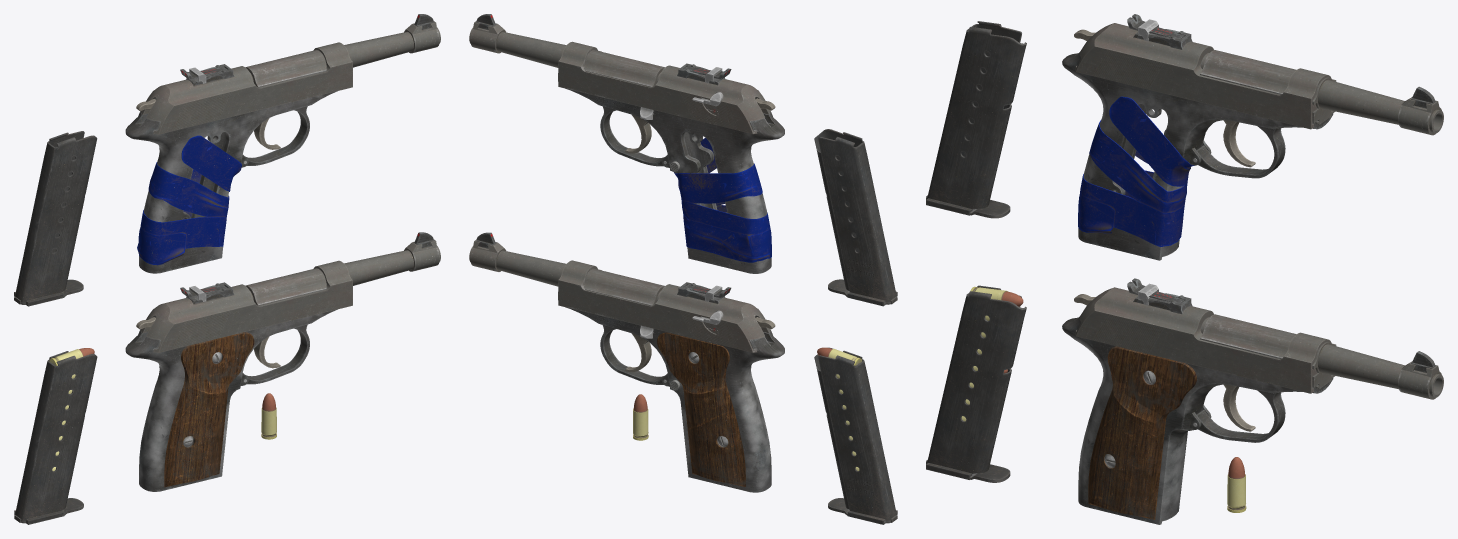
File: service_pistol_2k.gltf
The picture shows the model from 3 angles, left to right: view 1: azimuth 30°, elevation 25°; view 2: azimuth 150°, elevation 25°; view 3: azimuth 330°, elevation 25°; orthographic projection. The views are drawn at different scales.
Visible parts, largest first — view 1: service_pistol_pistol_b, service_pistol_pistol_a, service_pistol_magazine_loaded, service_pistol_magazine_empty, service_pistol_slide_a, service_pistol_slide_b, service_pistol_bullet; view 2: service_pistol_pistol_b, service_pistol_pistol_a, service_pistol_magazine_loaded, service_pistol_magazine_empty, service_pistol_slide_a, service_pistol_slide_b, service_pistol_bullet; view 3: service_pistol_pistol_a, service_pistol_pistol_b, service_pistol_magazine_loaded, service_pistol_magazine_empty, service_pistol_slide_b, service_pistol_slide_a, service_pistol_bullet, service_pistol_trigger_b, service_pistol_trigger_a.
Part boxes in pixels (<box>): service_pistol_pistol_b: <box>125,14,440,273</box>; service_pistol_pistol_a: <box>125,232,440,491</box>; service_pistol_magazine_loaded: <box>14,348,97,524</box>; service_pistol_magazine_empty: <box>14,131,97,306</box>; service_pistol_slide_a: <box>141,260,352,352</box>; service_pistol_slide_b: <box>141,42,352,134</box>; service_pistol_bullet: <box>261,393,276,439</box>; service_pistol_pistol_b: <box>469,14,784,273</box>; service_pistol_pistol_a: <box>469,232,784,492</box>; service_pistol_magazine_loaded: <box>814,347,897,524</box>; service_pistol_magazine_empty: <box>814,129,897,306</box>; service_pistol_slide_a: <box>558,260,772,352</box>; service_pistol_slide_b: <box>558,41,772,133</box>; service_pistol_bullet: <box>633,394,648,440</box>; service_pistol_pistol_a: <box>1062,314,1443,524</box>; service_pistol_pistol_b: <box>1062,50,1443,260</box>; service_pistol_magazine_loaded: <box>926,285,1026,482</box>; service_pistol_magazine_empty: <box>926,21,1026,218</box>; service_pistol_slide_b: <box>1075,14,1336,129</box>; service_pistol_slide_a: <box>1075,278,1336,393</box>; service_pistol_bullet: <box>1227,457,1246,512</box>; service_pistol_trigger_b: <box>1223,120,1255,167</box>; service_pistol_trigger_a: <box>1223,384,1255,431</box>.
Size of the model in its own units: 0.3016 by 0.2807 by 0.0318.
Materials: 1 (1 with a texture image).
